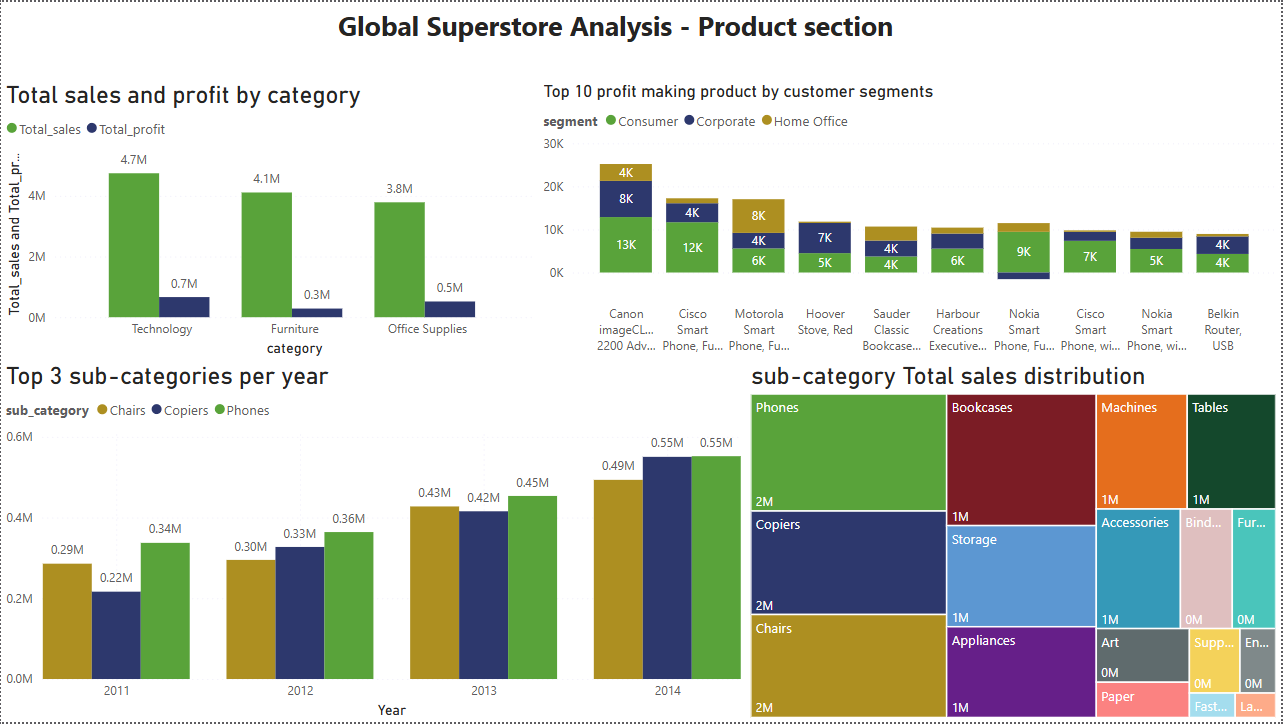

This screenshot's page, from the dashboard's own definition file:
{"tool":"powerbi","page":{"name":"Product analysis","canvas":[1280,720],"ordinal":1},"visuals":[{"type":"clusteredColumnChart","title":"Total sales and profit by category","fields":{"Category":["public superstore.category"],"Y":["public superstore.Total_sales","public superstore.Total_profit"]},"box":[0,79.1,537.4,280.4],"z":0},{"type":"textbox","box":[107.5,0,1014.3,45.7],"z":1000},{"type":"treemap","title":"sub-category Total sales distribution","fields":{"Group":["public superstore.sub_category"],"Values":["public superstore.Total_sales"]},"box":[745,359.5,534.9,360.7],"z":2000},{"type":"clusteredColumnChart","title":"Top 3 sub-categories per year","fields":{"Category":["public superstore.order_date.Variation.Date Hierarchy.Year","public superstore.sub_category"],"Y":["public superstore.Total_sales"],"Series":["public superstore.sub_category"]},"box":[0,359.5,745,360.7],"z":3000},{"type":"columnChart","title":"Top 10 profit making product by customer segments","fields":{"Category":["public superstore.product_name"],"Y":["public superstore.Total_profit"],"Series":["public superstore.segment"]},"box":[537.4,79.1,742.5,280.4],"z":4000}]}

Visuals, with their boxes in screenshot pixels (x1, y1, x2, y2), scaled from the page's 1280x720 canvas onto the 1283x726 screenshot:
"Total sales and profit by category" clusteredColumnChart: (0, 80, 539, 362)
textbox: (108, 0, 1124, 46)
"sub-category Total sales distribution" treemap: (747, 362, 1282, 725)
"Top 3 sub-categories per year" clusteredColumnChart: (0, 362, 747, 725)
"Top 10 profit making product by customer segments" columnChart: (539, 80, 1282, 362)
